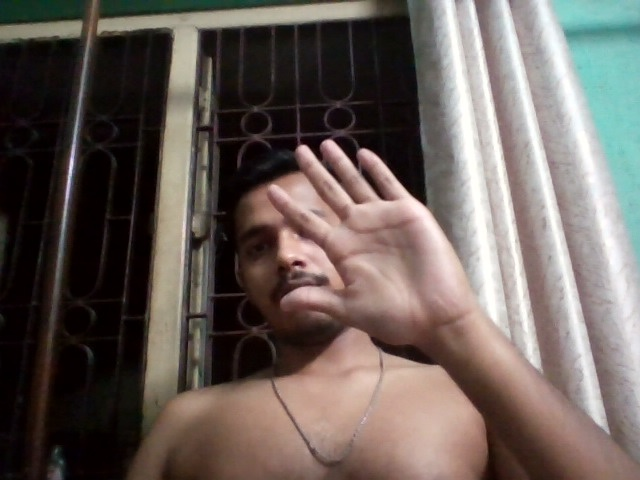Hello: (261, 131, 471, 344)
